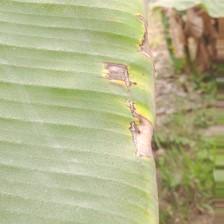cordana: (0, 0, 156, 224)
